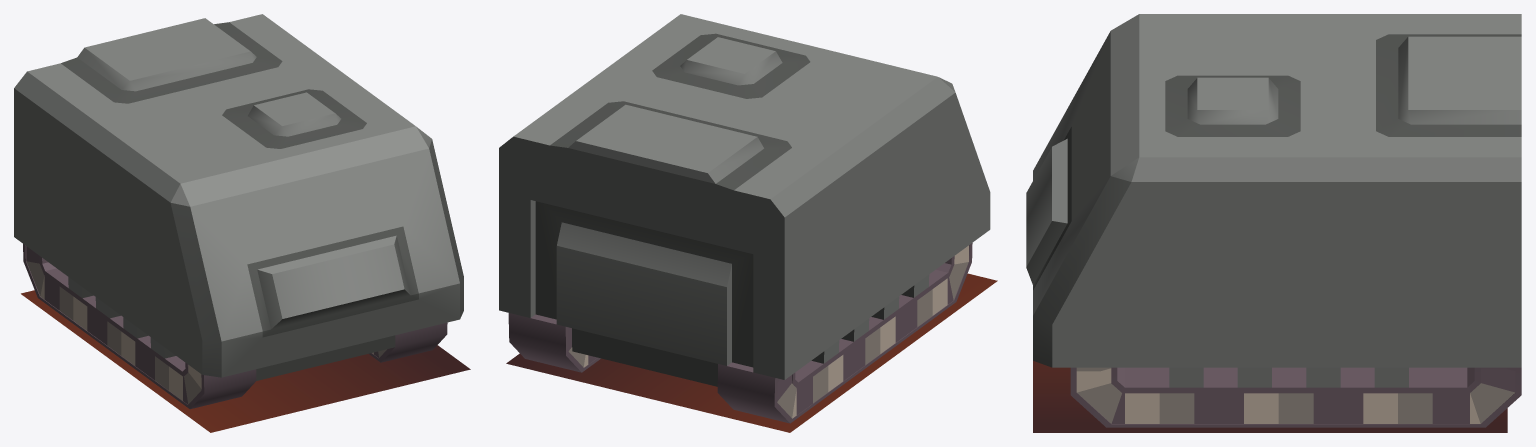
File: APCMesh.GreySky.glb
The picture shows the model from 3 angles, left to right: view 1: azimuth 30°, elevation 25°; view 2: azimuth 150°, elevation 25°; view 3: azimuth 270°, elevation 25°; orthographic projection. The views are drawn at different scales.
Visible parts, largest first — view 1: APCMesh.GreySky; view 2: APCMesh.GreySky; view 3: APCMesh.GreySky.
Boxes of the visible parts, <box> form: APCMesh.GreySky: <box>14,14,470,432</box>; APCMesh.GreySky: <box>499,14,997,432</box>; APCMesh.GreySky: <box>1026,14,1521,432</box>.
Size of the model in its own units: 1.51 by 1.25 by 1.98.
Materials: 1 (1 with a texture image).
